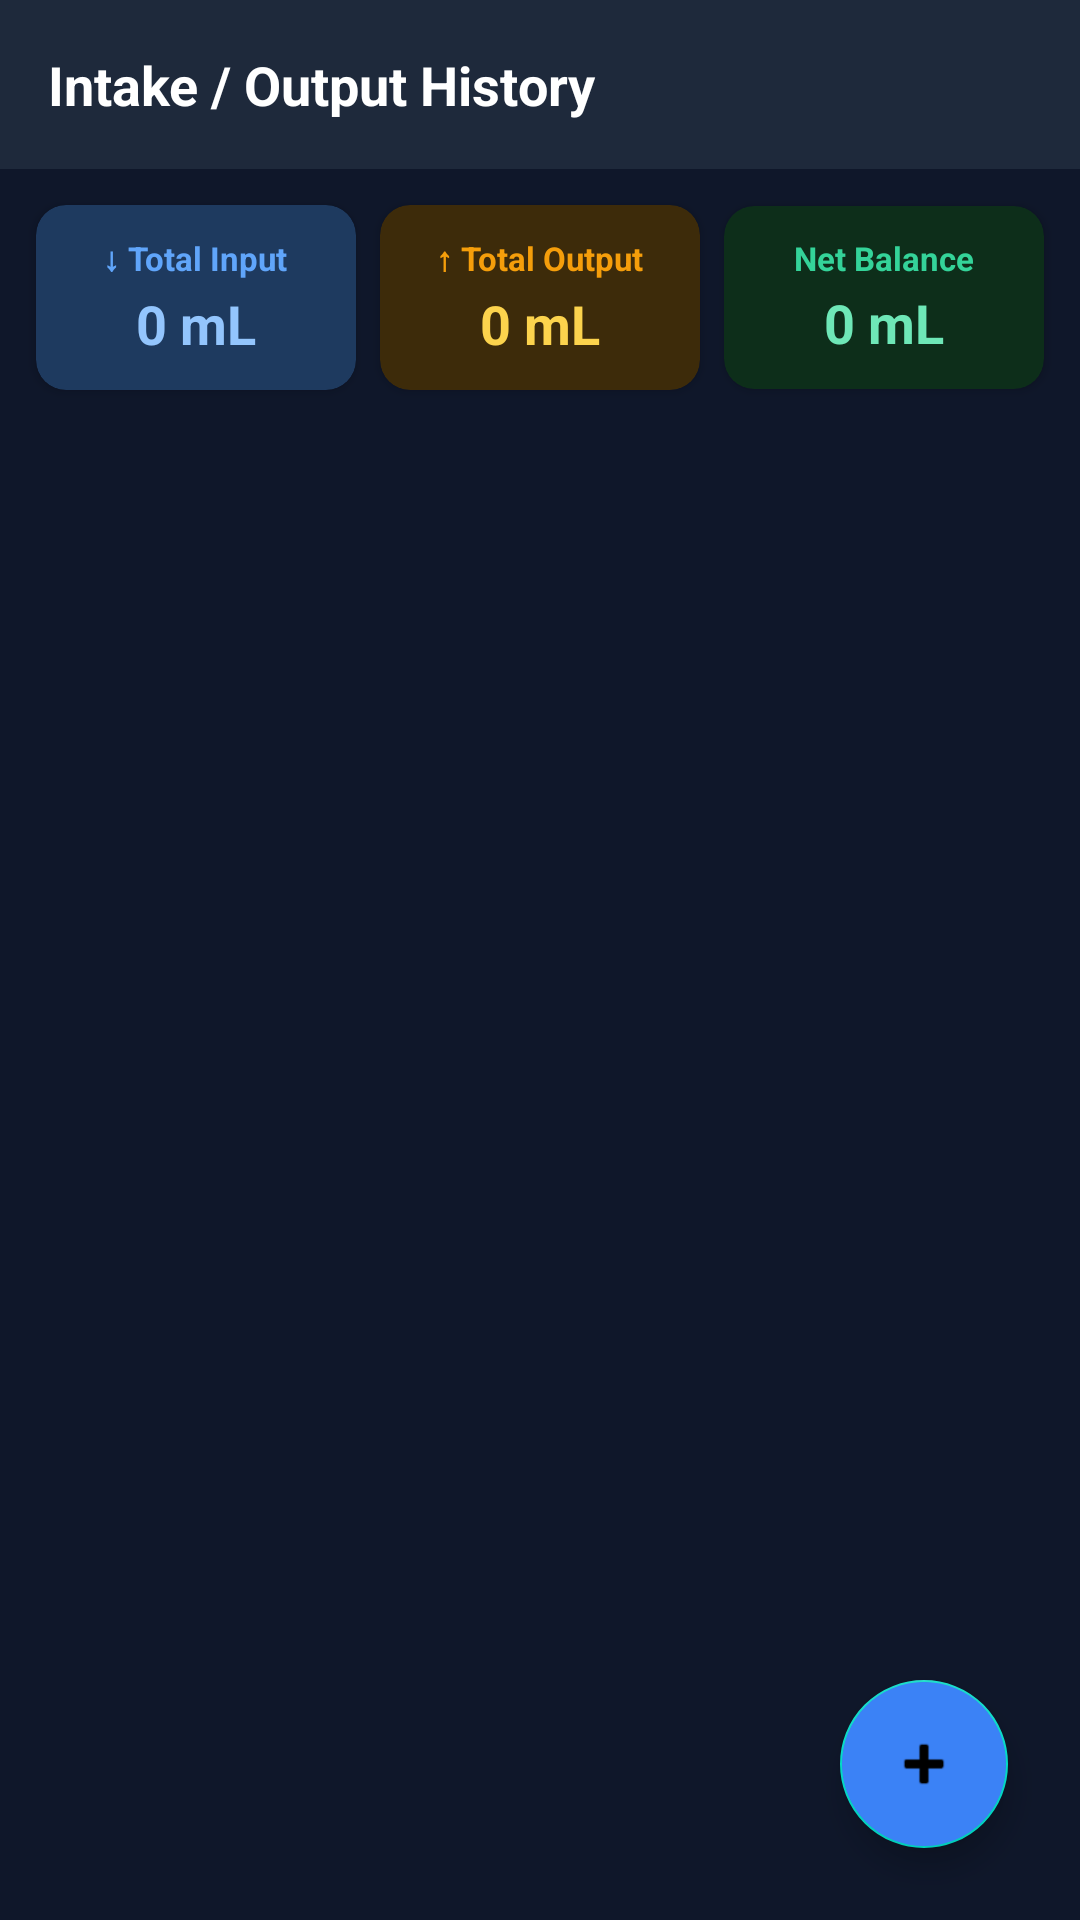

Icon bounding boxes for this 1080 × 1920 phone screenshot, format [x1, y1, x2, y2]:
Add I/O Record: [840, 1680, 1008, 1848]
